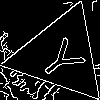Y: (35, 30, 95, 86)
